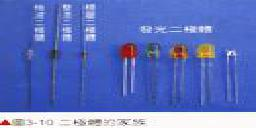LED: (195, 43, 216, 108), (167, 41, 188, 105), (119, 42, 142, 99), (144, 41, 164, 103), (222, 46, 242, 107)
